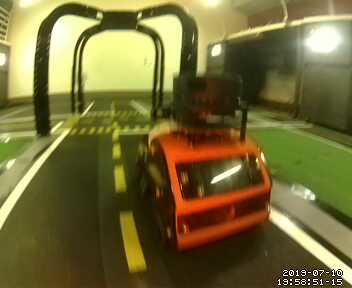pheeno: (134, 70, 276, 252)
